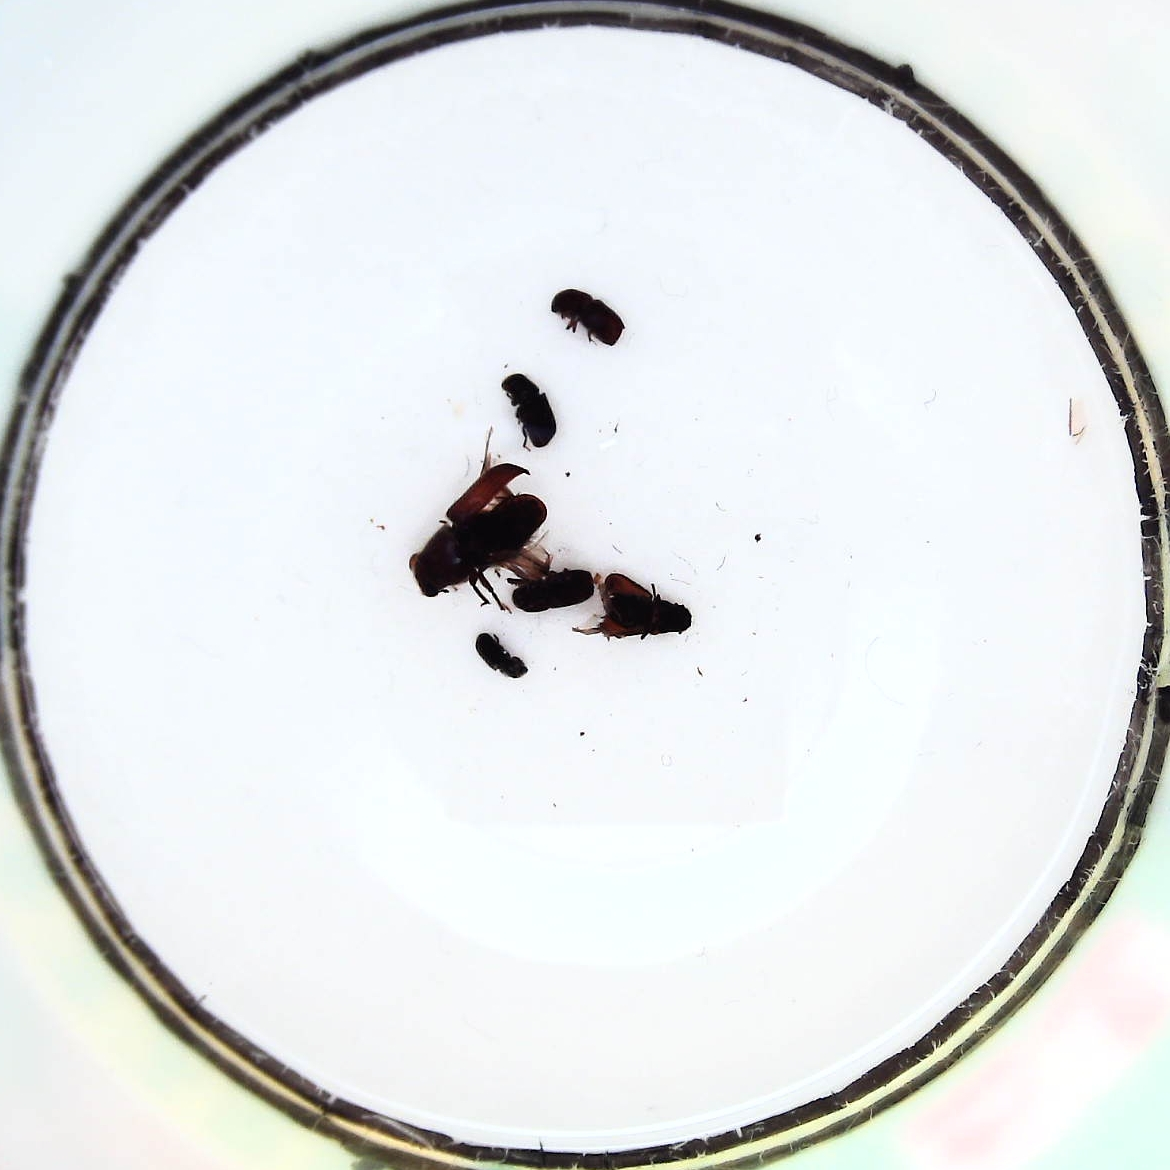Leconte: (407, 449, 546, 606), (594, 572, 695, 640)
Linnaeus: (550, 289, 622, 349), (510, 569, 595, 612)
armandi: (502, 373, 558, 450)
coleoptera: (476, 630, 531, 680)
